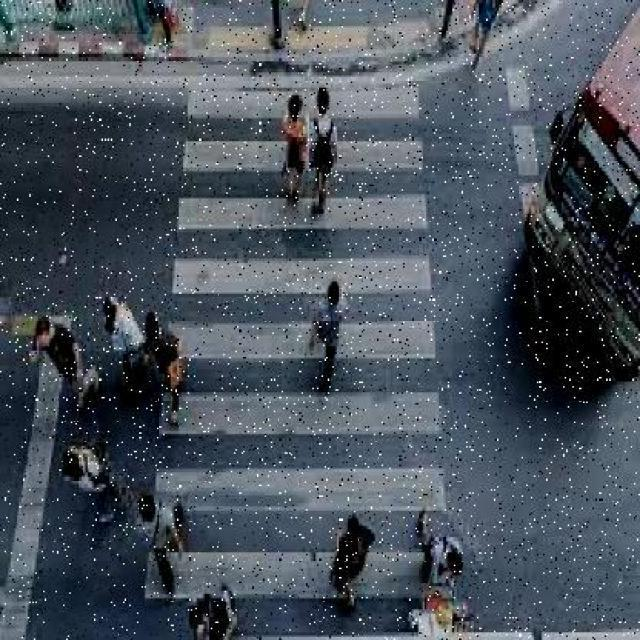Pedestrian crosswalk: (120, 53, 442, 632)
